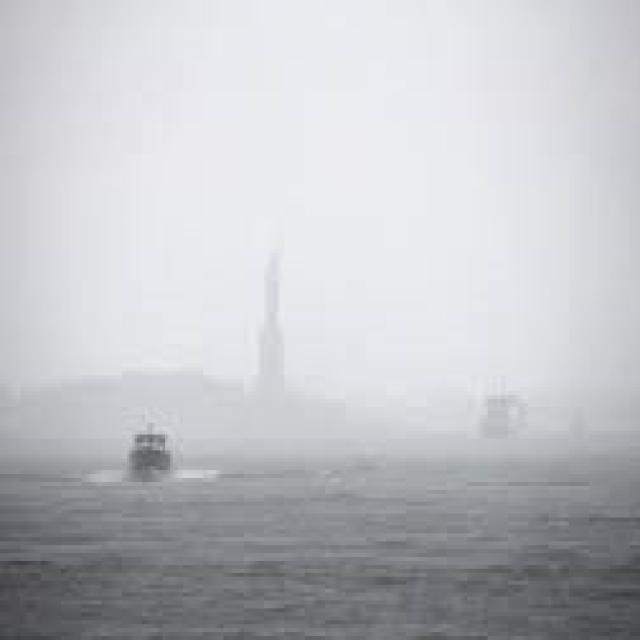houseboat: (468, 377, 537, 436), (125, 408, 176, 486)
